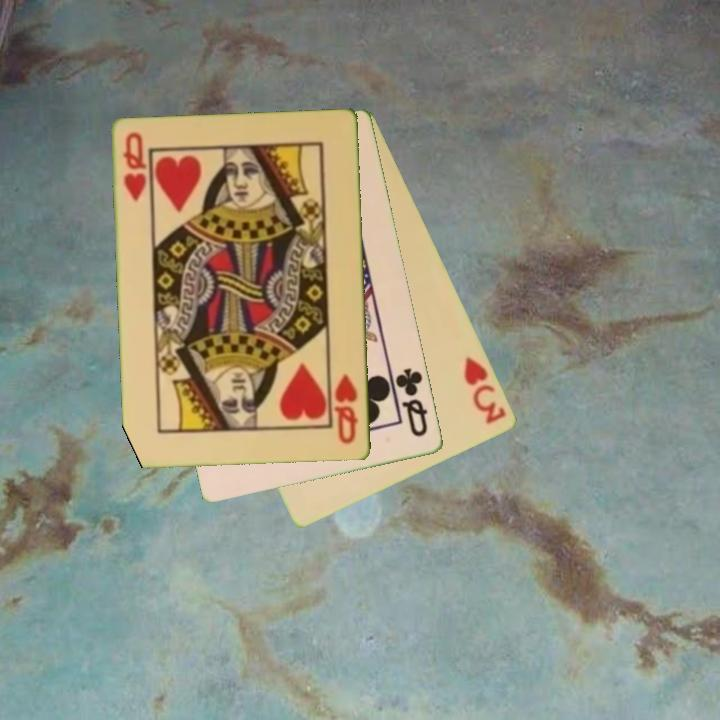3h: (461, 353, 510, 428)
Qc: (392, 364, 431, 440)
Qh: (331, 371, 362, 447), (120, 129, 150, 205)
